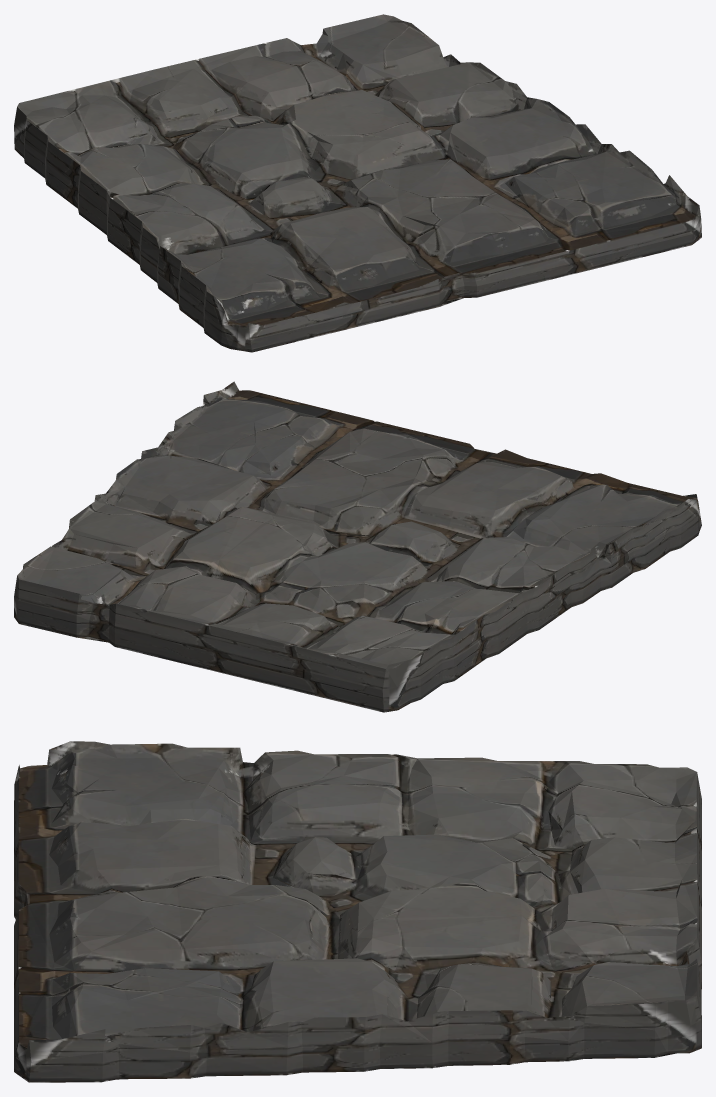
Rendered from SM_Dungeon_Floor_A_LOD0.glb.
The picture shows the model from 3 angles, top to bottom: view 1: azimuth 30°, elevation 25°; view 2: azimuth 150°, elevation 25°; view 3: azimuth 270°, elevation 25°; orthographic projection. The views are drawn at different scales.
Visible parts, largest first — view 1: SM_Dungeon_Floor_A_LOD0; view 2: SM_Dungeon_Floor_A_LOD0; view 3: SM_Dungeon_Floor_A_LOD0.
Part boxes in pixels (left/top/right/bottom): SM_Dungeon_Floor_A_LOD0: left=14, top=14, right=701, bottom=352; SM_Dungeon_Floor_A_LOD0: left=14, top=381, right=701, bottom=712; SM_Dungeon_Floor_A_LOD0: left=14, top=741, right=701, bottom=1082.
Size of the model in its own units: 4 by 0.3527 by 4.
Materials: 1 (1 with a texture image).
